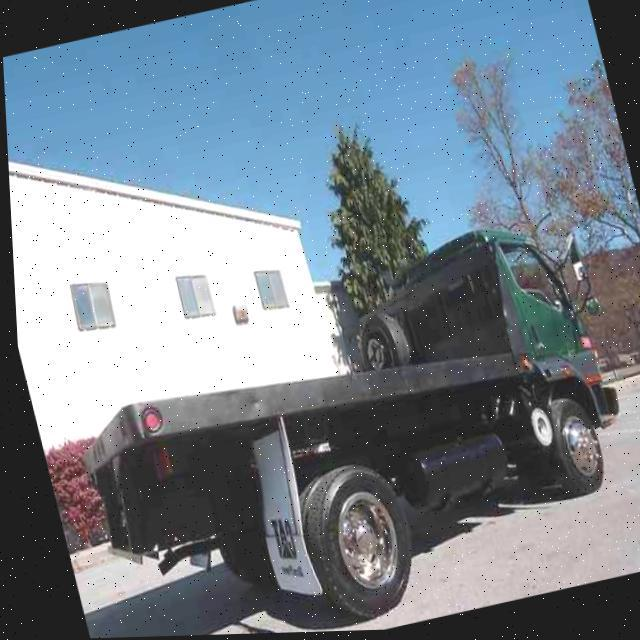truck: (41, 205, 640, 640)
